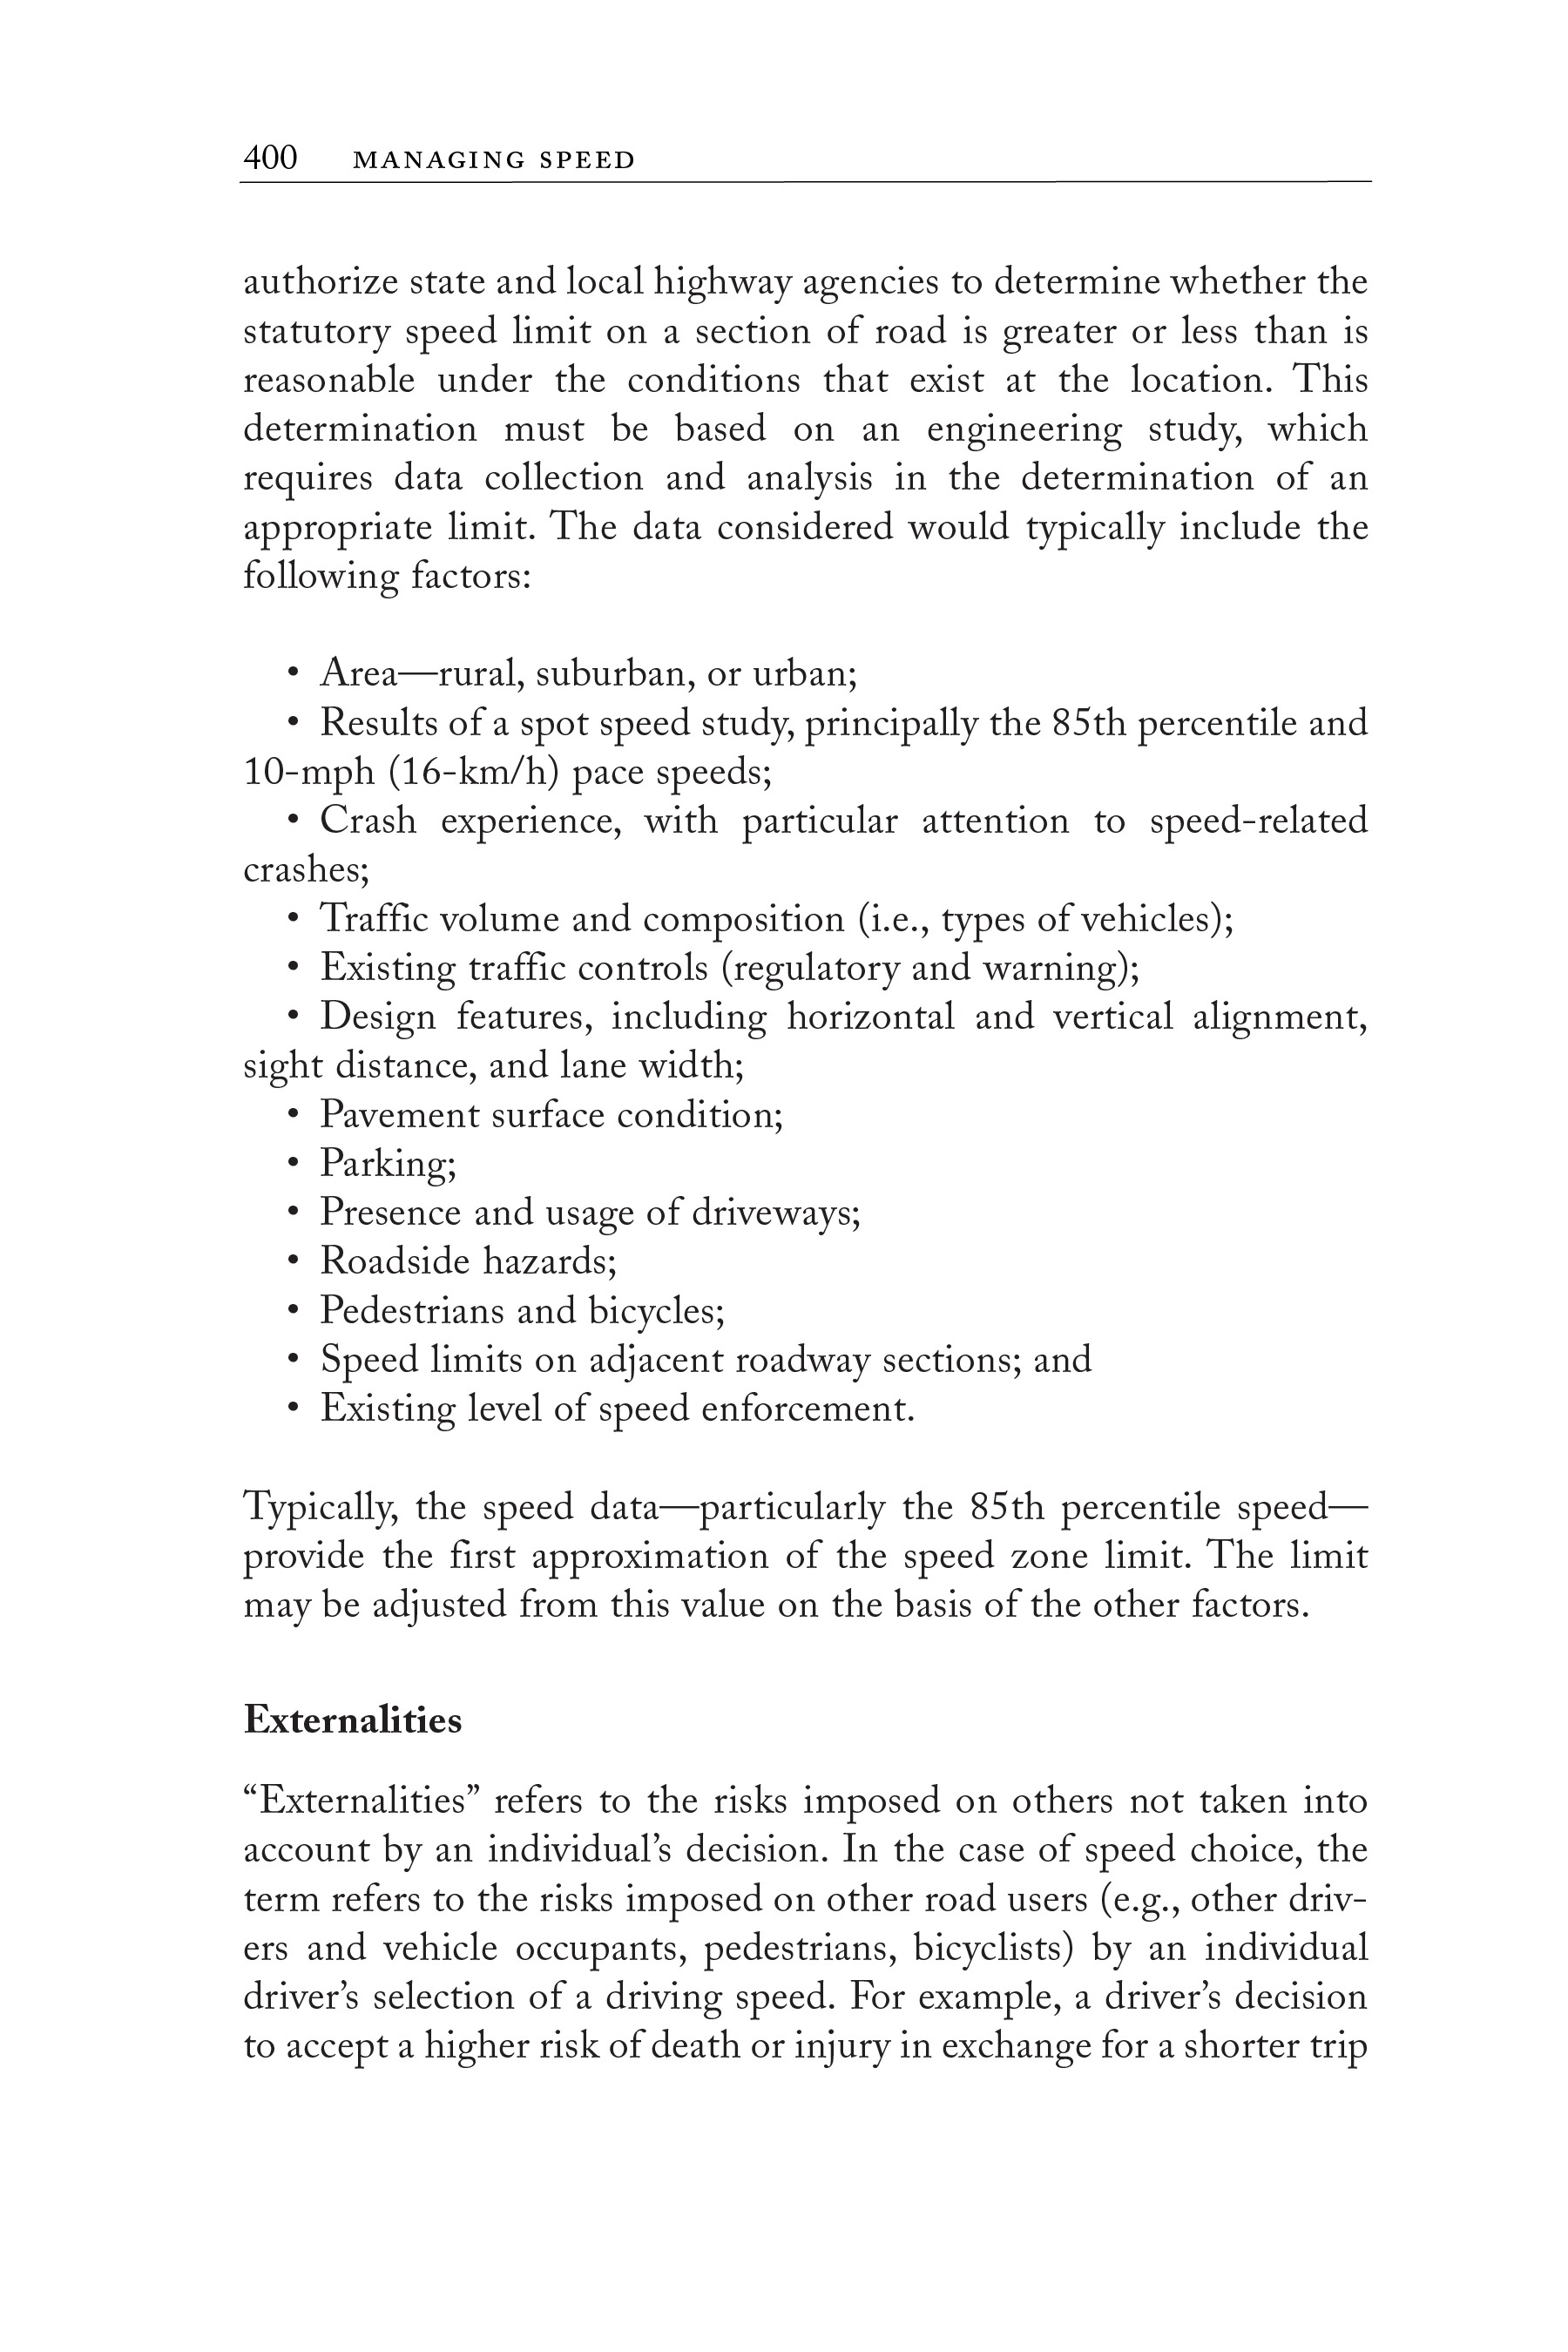list: (240, 656, 1358, 1440)
section: (214, 1685, 488, 1750)
text: (220, 252, 1395, 618), (233, 1787, 1358, 2089), (220, 1491, 1379, 1634)
